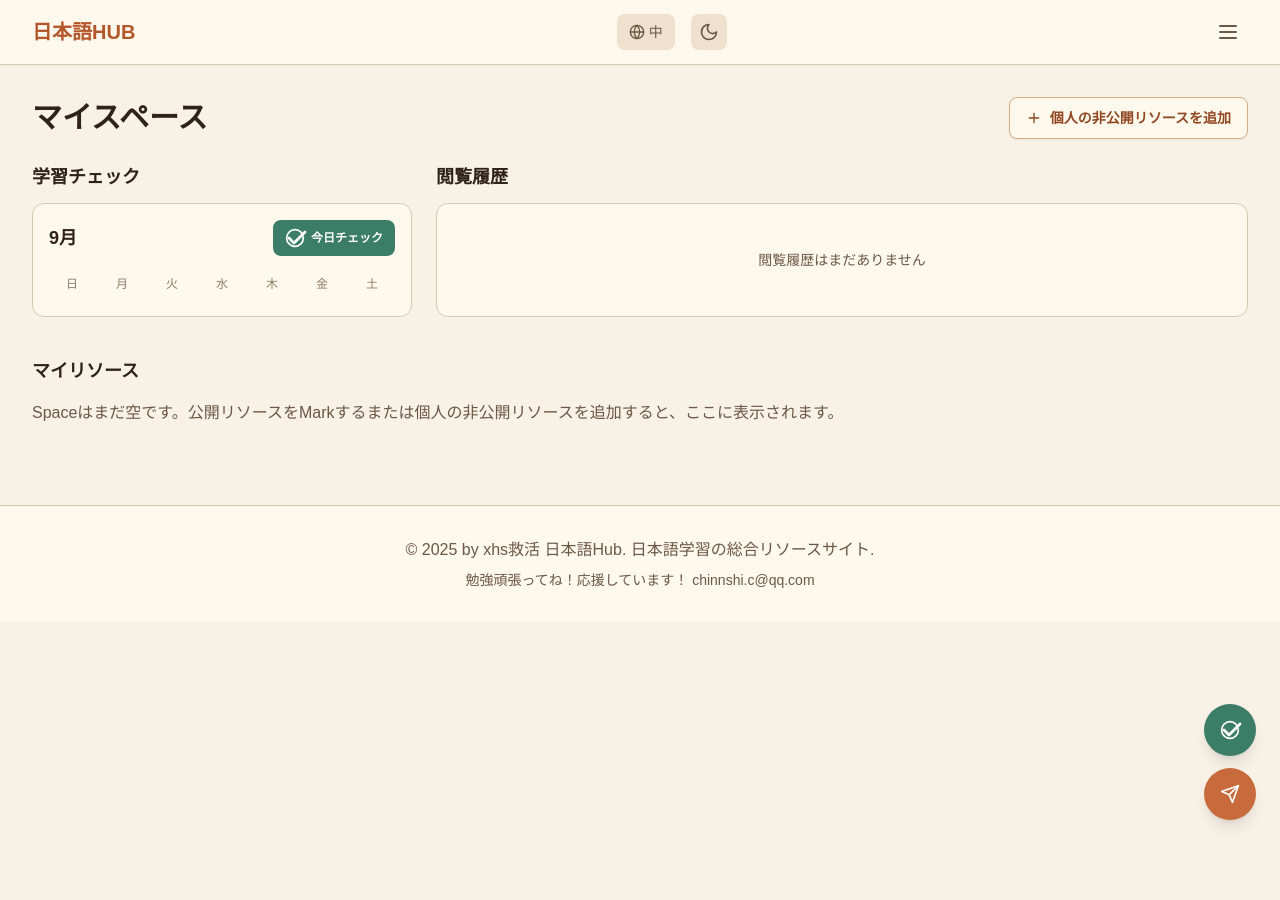
Test: App catalog states › connects private resource creation from Space to the action hook
Click the button "個人の非公開リソースを追加" at (1128, 118), box [1009,97,1248,139]
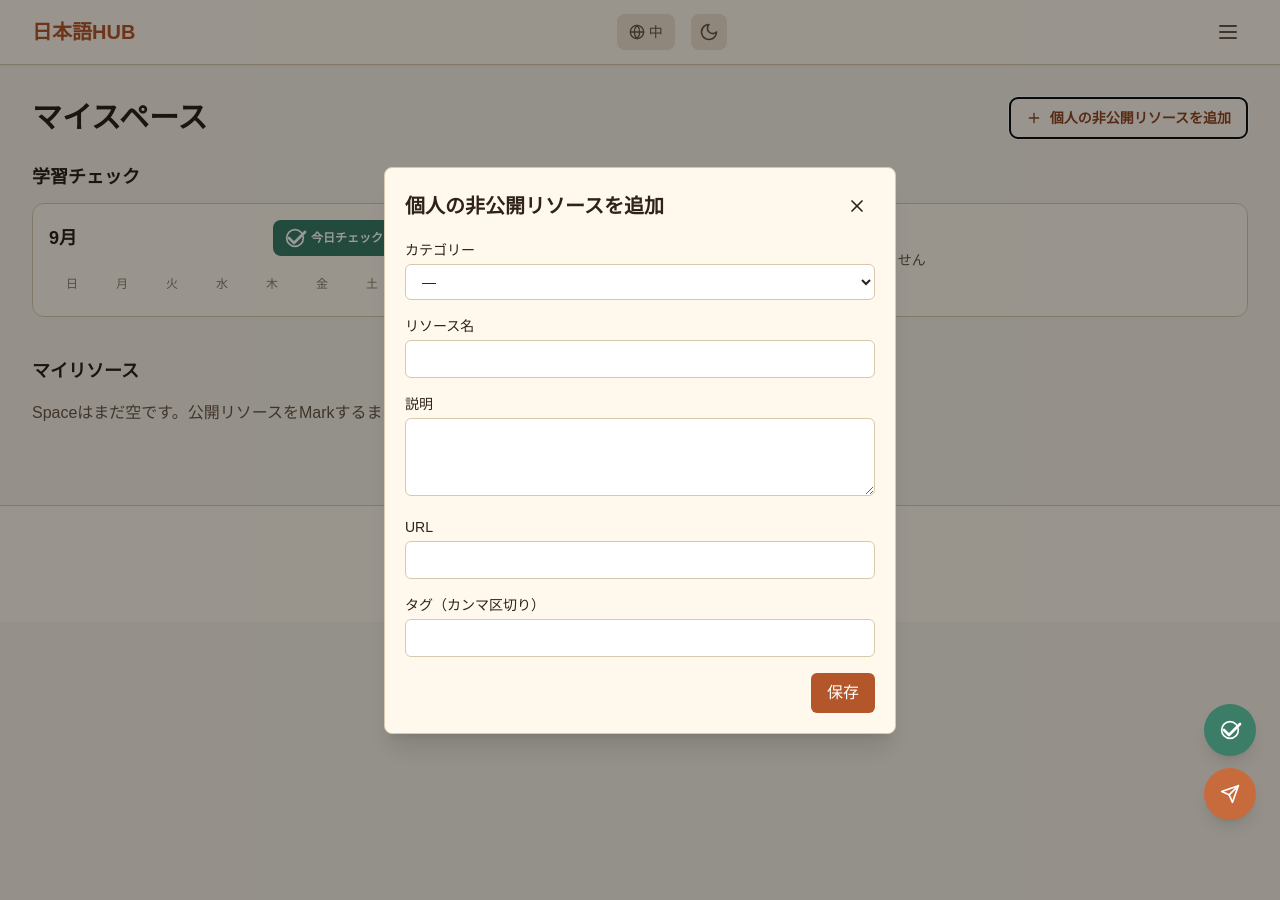
Result: the dialog is shown at [384,166,896,734]
